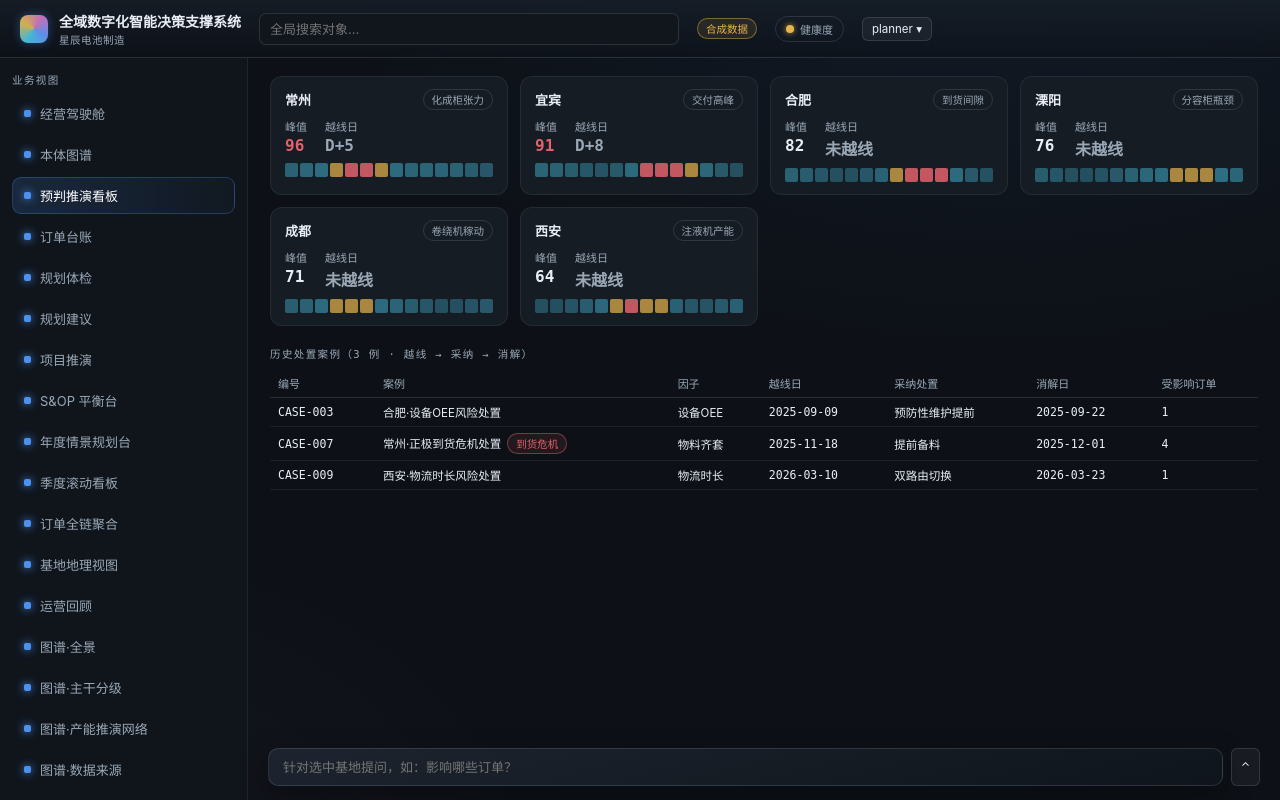
F3 · 澄清流 › INTENT_CHOICE：选项卡 + 都不是；选中后继续到回答
Expected: the button with test id "risk-card-常州" is shown, [270, 76, 508, 195]
Type "风险怎么样" into the field named "查询输入" at (746,767), box [268, 748, 1223, 786]
Then press Enter
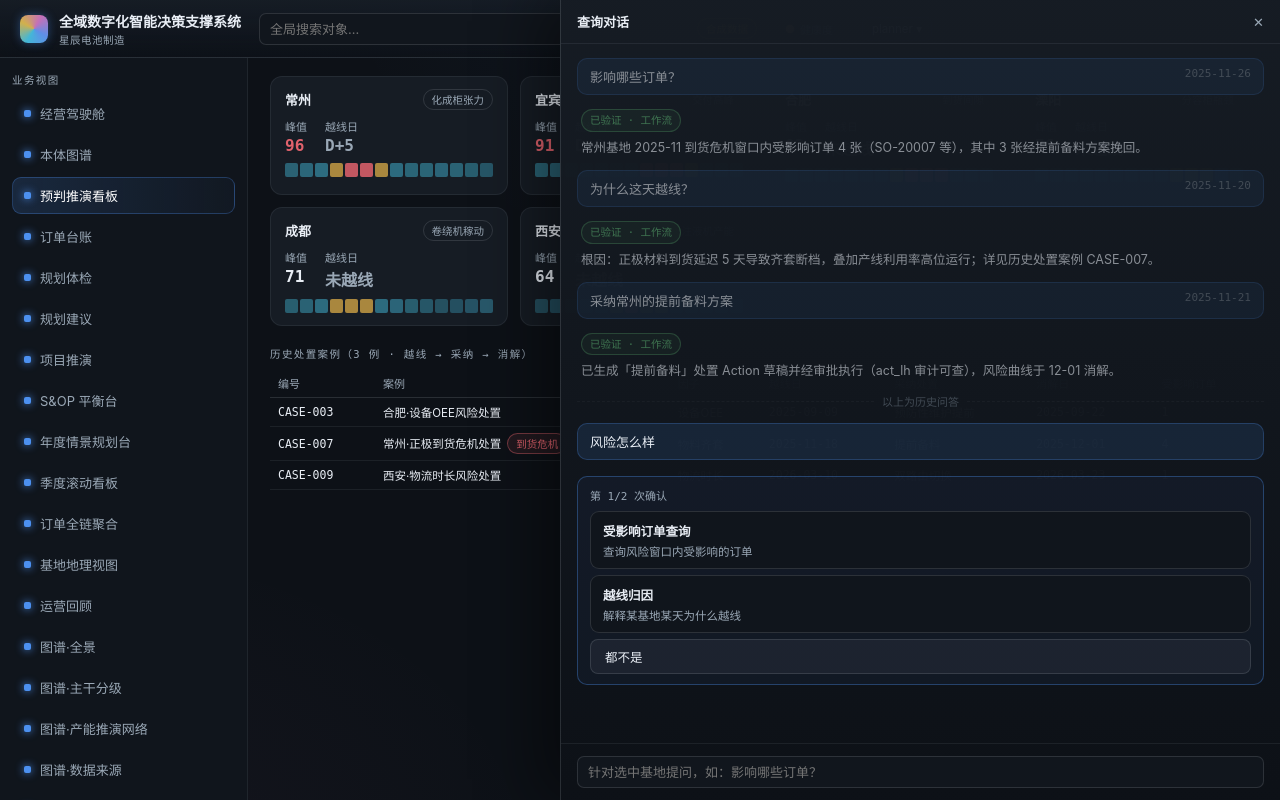
Now the text with test id "clarify-round" reads "第 1/2 次确认", box [590, 490, 667, 503]
Now the button with test id "intent-none" reads "都不是", box [590, 639, 1251, 674]
Now the button with test id "intent-option-affected_orders" shows "受影响订单查询"
Click the button with test id "intent-option-affected_orders" at (647,532), box [590, 511, 1251, 569]
(page scrolled)
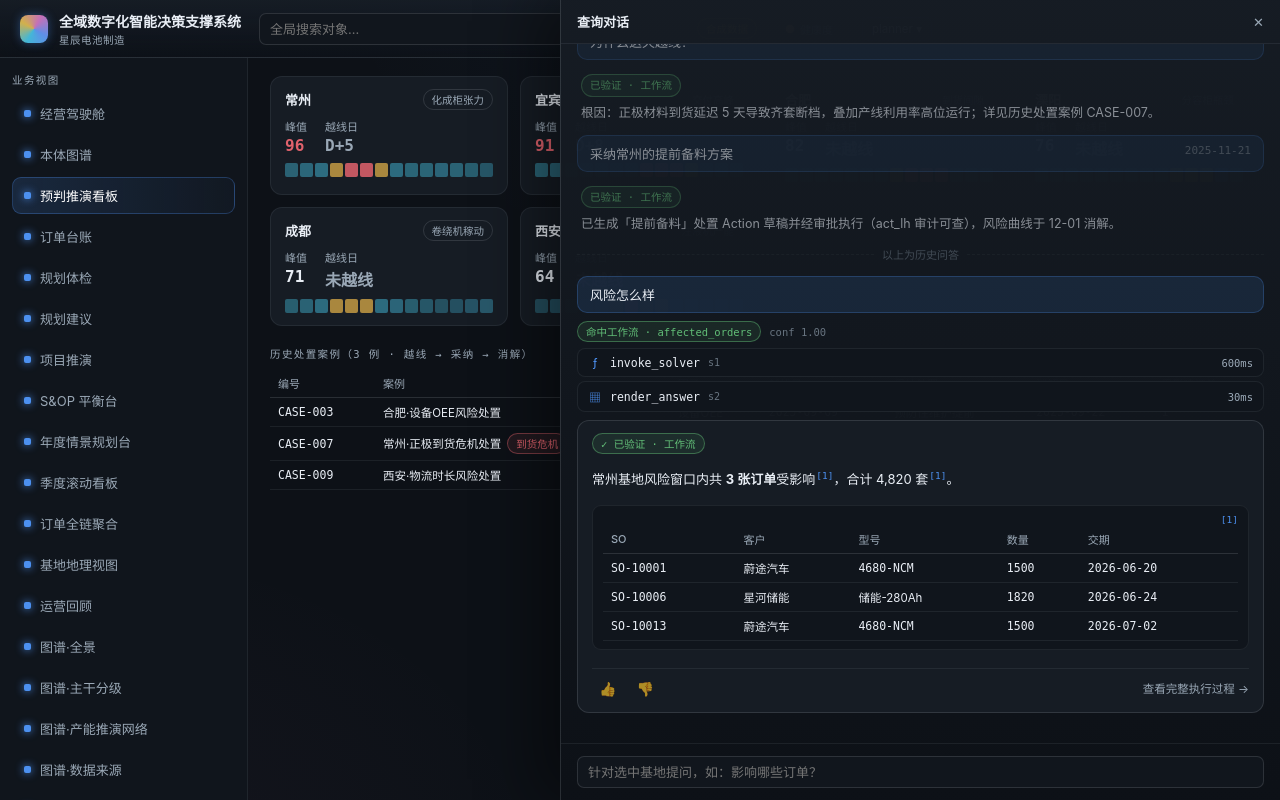
Now the element with test id "answer-card" is shown, box [577, 420, 1264, 713]
